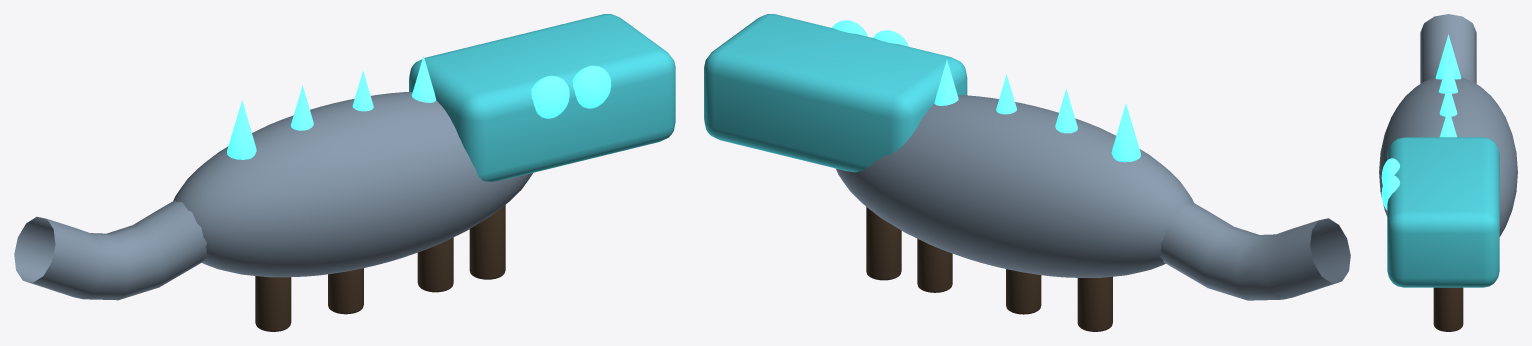
The model's file is quadruped_v8.glb.
The picture shows the model from 3 angles, left to right: view 1: azimuth 30°, elevation 25°; view 2: azimuth 150°, elevation 25°; view 3: azimuth 270°, elevation 25°; orthographic projection. The views are drawn at different scales.
Parts seen in each view (by area): view 1: CROC_BODY_PRIMARY, CROC_HEAD_ACCENT, CROC_TAIL_PRIMARY, CROC_LEG_SECONDARY.003, CROC_LEG_SECONDARY, CROC_LEG_SECONDARY.002, CROC_LEG_SECONDARY.001, EYE_EMISSIVE, EYE_EMISSIVE.001, CROC_SCUTE_EMISSIVE, CROC_SCUTE_EMISSIVE.003, CROC_SCUTE_EMISSIVE.001 (+1 smaller); view 2: CROC_BODY_PRIMARY, CROC_HEAD_ACCENT, CROC_TAIL_PRIMARY, CROC_LEG_SECONDARY.003, CROC_LEG_SECONDARY, CROC_LEG_SECONDARY.002, CROC_LEG_SECONDARY.001, CROC_SCUTE_EMISSIVE, CROC_SCUTE_EMISSIVE.003, CROC_SCUTE_EMISSIVE.001, CROC_SCUTE_EMISSIVE.002; view 3: CROC_HEAD_ACCENT, CROC_BODY_PRIMARY, CROC_TAIL_PRIMARY, CROC_LEG_SECONDARY.003, CROC_SCUTE_EMISSIVE, EYE_EMISSIVE.001, CROC_SCUTE_EMISSIVE.001, CROC_SCUTE_EMISSIVE.002, CROC_SCUTE_EMISSIVE.003, EYE_EMISSIVE.
Boxes of the visible parts, bbox=[...] form: CROC_BODY_PRIMARY: bbox=[173, 91, 532, 277]; CROC_HEAD_ACCENT: bbox=[409, 14, 675, 181]; CROC_TAIL_PRIMARY: bbox=[14, 200, 207, 300]; CROC_LEG_SECONDARY.003: bbox=[469, 205, 505, 279]; CROC_LEG_SECONDARY: bbox=[255, 276, 291, 331]; CROC_LEG_SECONDARY.002: bbox=[417, 237, 453, 292]; CROC_LEG_SECONDARY.001: bbox=[328, 268, 363, 314]; EYE_EMISSIVE: bbox=[531, 75, 569, 118]; EYE_EMISSIVE.001: bbox=[572, 65, 611, 108]; CROC_SCUTE_EMISSIVE: bbox=[227, 100, 256, 159]; CROC_SCUTE_EMISSIVE.003: bbox=[411, 56, 436, 102]; CROC_SCUTE_EMISSIVE.001: bbox=[291, 85, 313, 130]; CROC_BODY_PRIMARY: bbox=[836, 95, 1193, 277]; CROC_HEAD_ACCENT: bbox=[704, 14, 967, 172]; CROC_TAIL_PRIMARY: bbox=[1160, 202, 1350, 300]; CROC_LEG_SECONDARY.003: bbox=[866, 207, 901, 280]; CROC_LEG_SECONDARY: bbox=[1077, 276, 1112, 331]; CROC_LEG_SECONDARY.002: bbox=[917, 239, 952, 292]; CROC_LEG_SECONDARY.001: bbox=[1006, 269, 1041, 314]; CROC_SCUTE_EMISSIVE: bbox=[1111, 103, 1140, 162]; CROC_SCUTE_EMISSIVE.003: bbox=[934, 60, 958, 105]; CROC_SCUTE_EMISSIVE.001: bbox=[1055, 89, 1077, 133]; CROC_SCUTE_EMISSIVE.002: bbox=[996, 74, 1016, 114]; CROC_HEAD_ACCENT: bbox=[1387, 137, 1499, 287]; CROC_BODY_PRIMARY: bbox=[1379, 77, 1517, 236]; CROC_TAIL_PRIMARY: bbox=[1420, 14, 1476, 83]; CROC_LEG_SECONDARY.003: bbox=[1433, 287, 1463, 331]; CROC_SCUTE_EMISSIVE: bbox=[1435, 34, 1461, 79]; EYE_EMISSIVE.001: bbox=[1381, 175, 1400, 210]; CROC_SCUTE_EMISSIVE.001: bbox=[1438, 58, 1458, 93]; CROC_SCUTE_EMISSIVE.002: bbox=[1439, 83, 1457, 116]; CROC_SCUTE_EMISSIVE.003: bbox=[1440, 107, 1456, 137]; EYE_EMISSIVE: bbox=[1381, 158, 1399, 185].
Size of the model in its own units: 2.82 by 1.01 by 0.6552.
